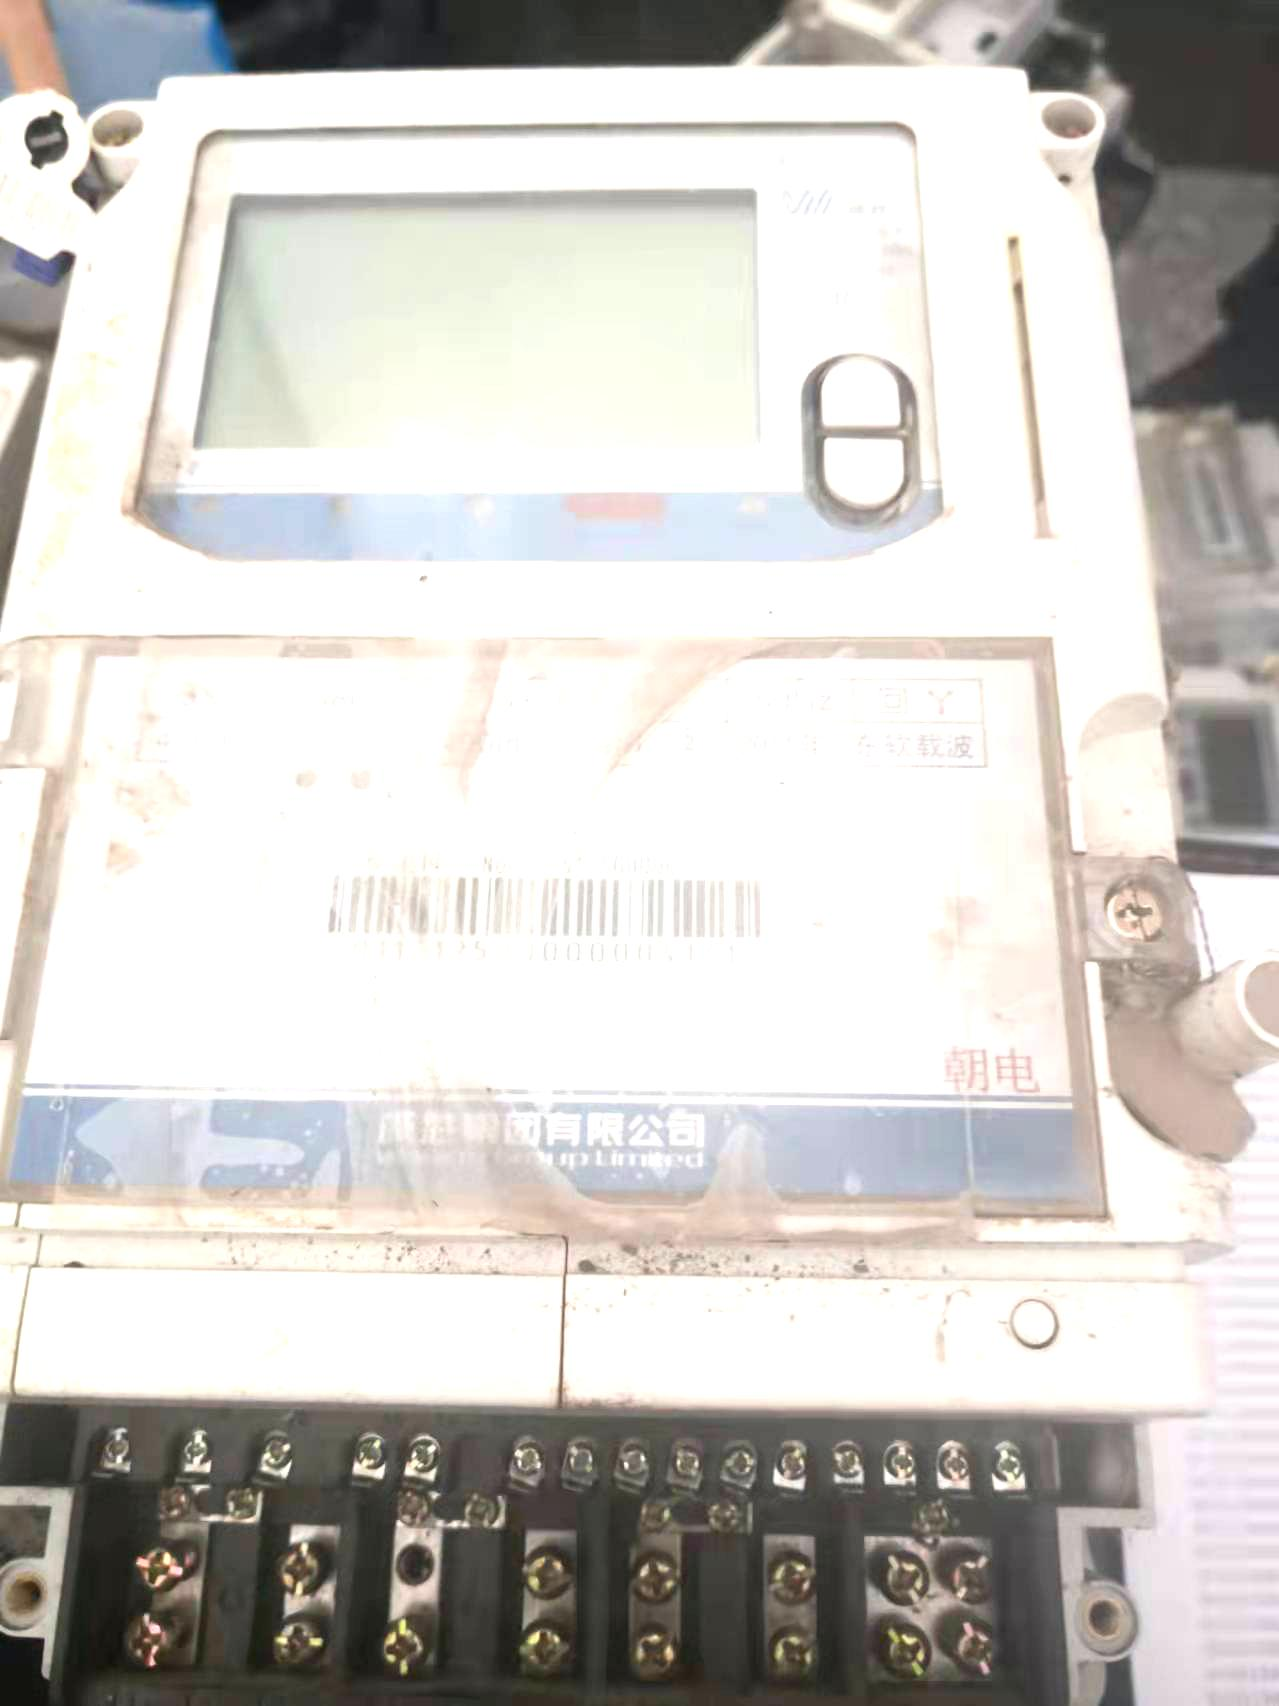digital: (1, 69, 1220, 1237)
